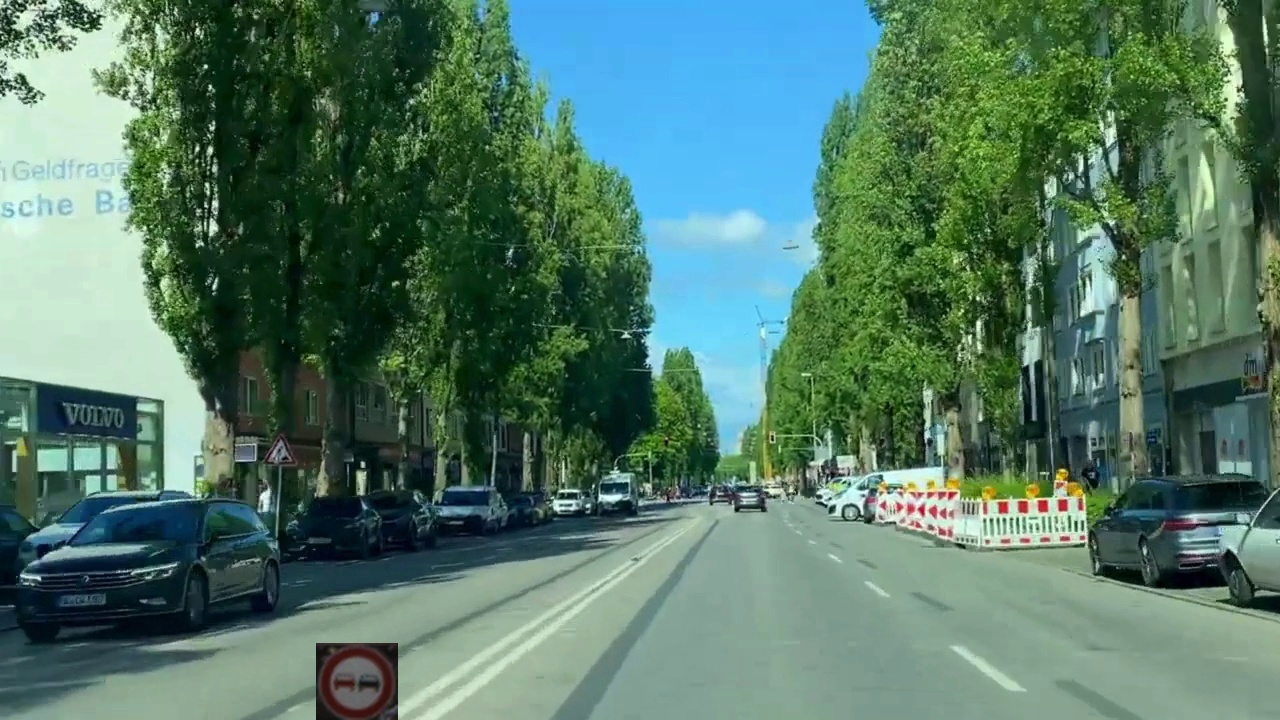No passing: (316, 643, 398, 720)
